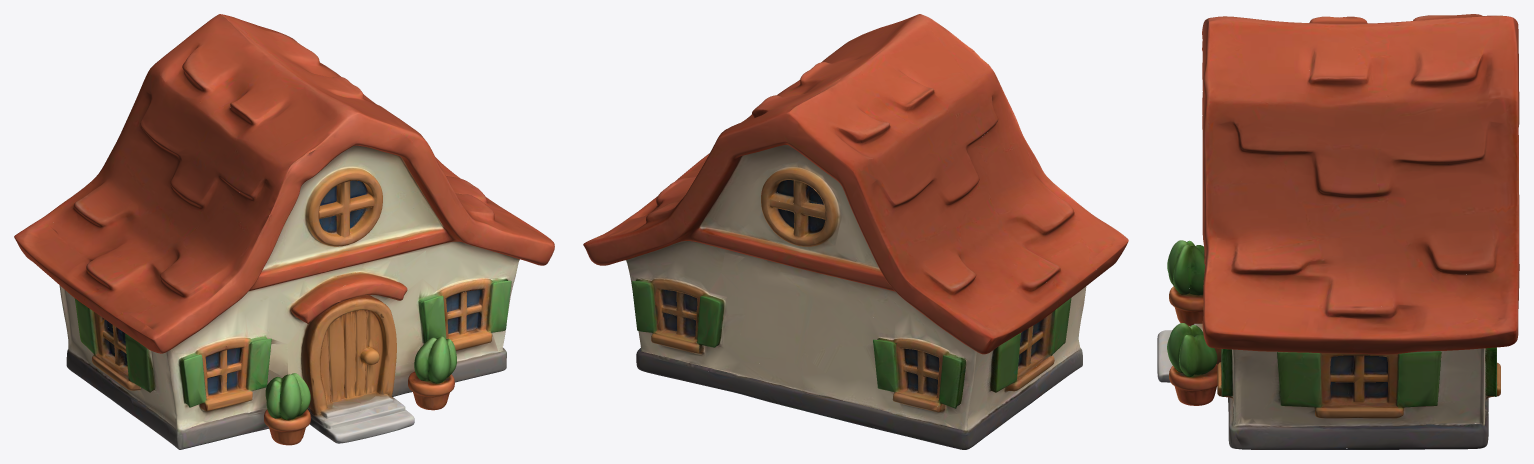
File: AH_ENV_CottageCream_Soft_LOD2_phone.glb
The picture shows the model from 3 angles, left to right: view 1: azimuth 30°, elevation 25°; view 2: azimuth 150°, elevation 25°; view 3: azimuth 270°, elevation 25°; orthographic projection. The views are drawn at different scales.
Visible parts, largest first — view 1: tripo_node_d91ff913-01dc-4906-bd3c-b7cf97fcd64f; view 2: tripo_node_d91ff913-01dc-4906-bd3c-b7cf97fcd64f; view 3: tripo_node_d91ff913-01dc-4906-bd3c-b7cf97fcd64f.
Part boxes in pixels (x1=…): tripo_node_d91ff913-01dc-4906-bd3c-b7cf97fcd64f: x1=14, y1=14, x2=554, y2=449; tripo_node_d91ff913-01dc-4906-bd3c-b7cf97fcd64f: x1=583, y1=14, x2=1128, y2=449; tripo_node_d91ff913-01dc-4906-bd3c-b7cf97fcd64f: x1=1157, y1=14, x2=1519, y2=449.
Size of the model in its own units: 0.9795 by 0.7046 by 0.6652.
1 material, 1 textured.
